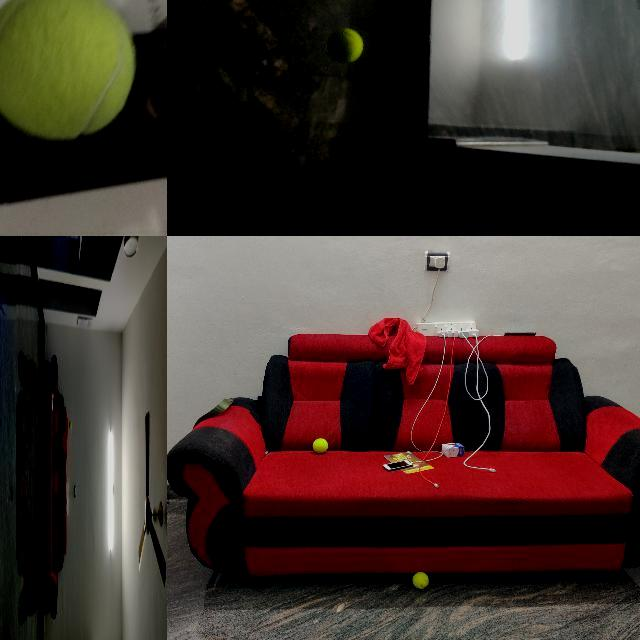Tennis Ball: (1, 0, 137, 141), (327, 28, 364, 63), (412, 572, 429, 589), (313, 437, 329, 453), (69, 421, 72, 430)
